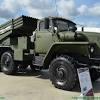MIL_SAM_TEL: (0, 13, 100, 91)
